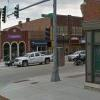Car: (2, 53, 52, 72)
